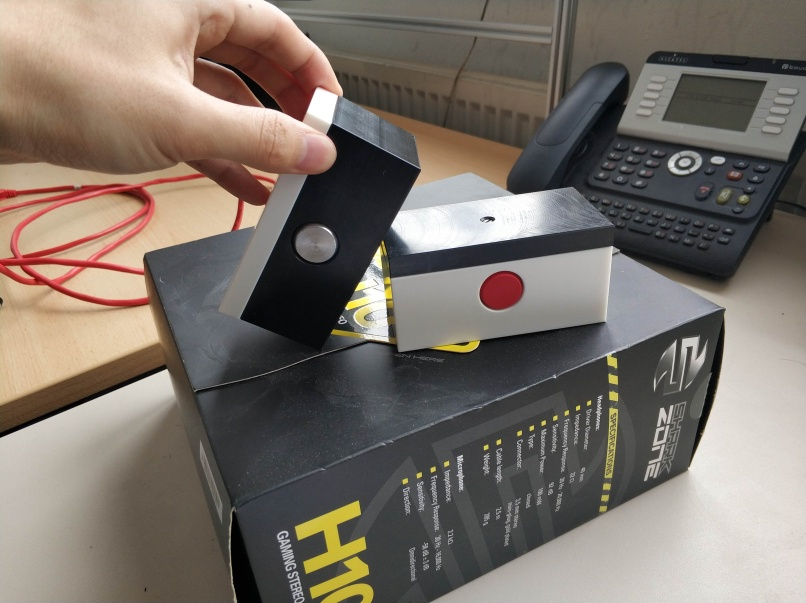black+white+red: (378, 182, 624, 353)
white+black+silver: (216, 84, 423, 353)
